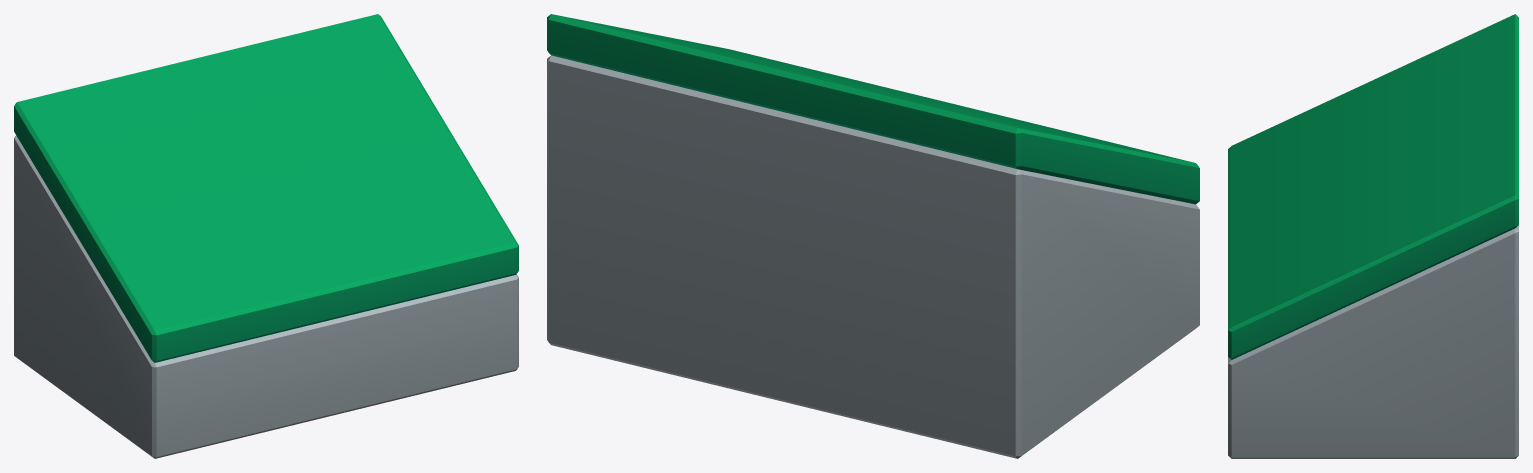
File: kaykit_platform_slope_6x4x4_green.glb
The picture shows the model from 3 angles, left to right: view 1: azimuth 30°, elevation 25°; view 2: azimuth 150°, elevation 25°; view 3: azimuth 270°, elevation 25°; orthographic projection. The views are drawn at different scales.
Visible parts, largest first — view 1: platform_slope_6x4x4_green_visual; view 2: platform_slope_6x4x4_green_visual; view 3: platform_slope_6x4x4_green_visual.
Boxes of the visible parts, x1,y1,x2,y2 form: platform_slope_6x4x4_green_visual: (14, 14, 518, 458); platform_slope_6x4x4_green_visual: (547, 14, 1199, 458); platform_slope_6x4x4_green_visual: (1228, 14, 1518, 458).
Size of what is drawn, in the model's own units: 6 by 4 by 4.
1 material, 1 textured.
